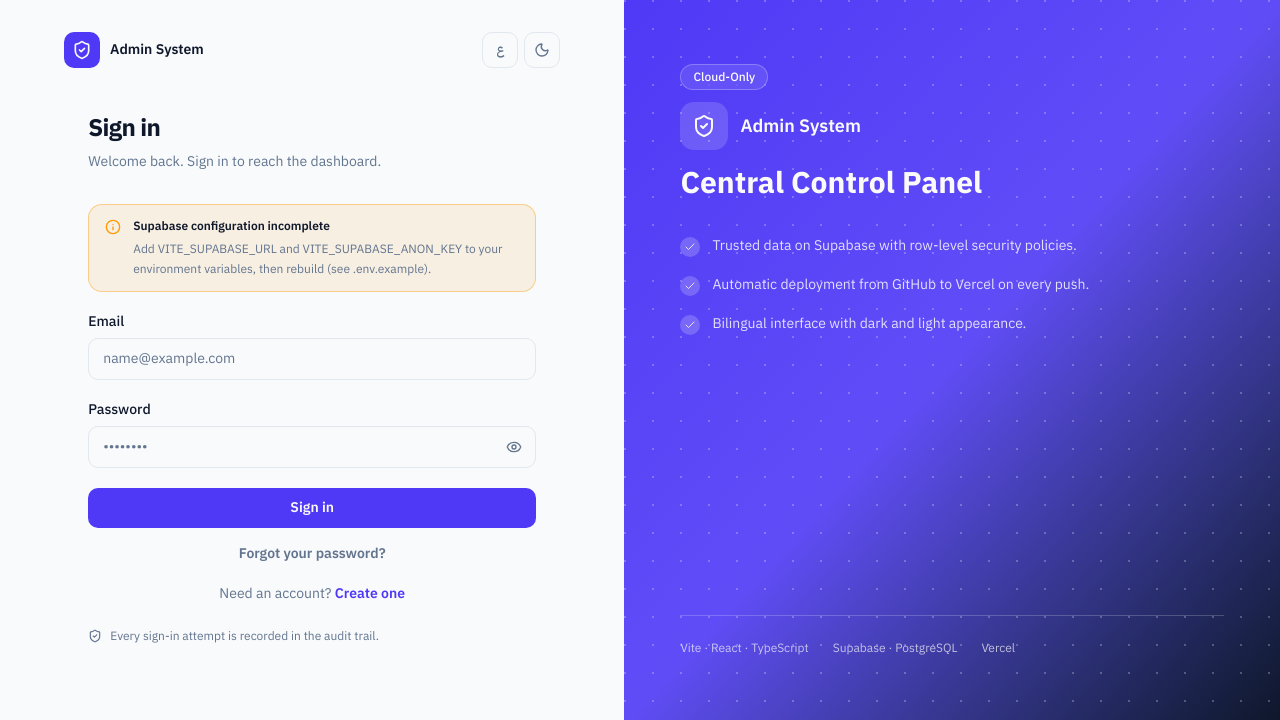
Test: Login (standalone screen) › renders the account-creation form in English as well
Click the button "Create one" at (370, 594), box [335,584,405,604]
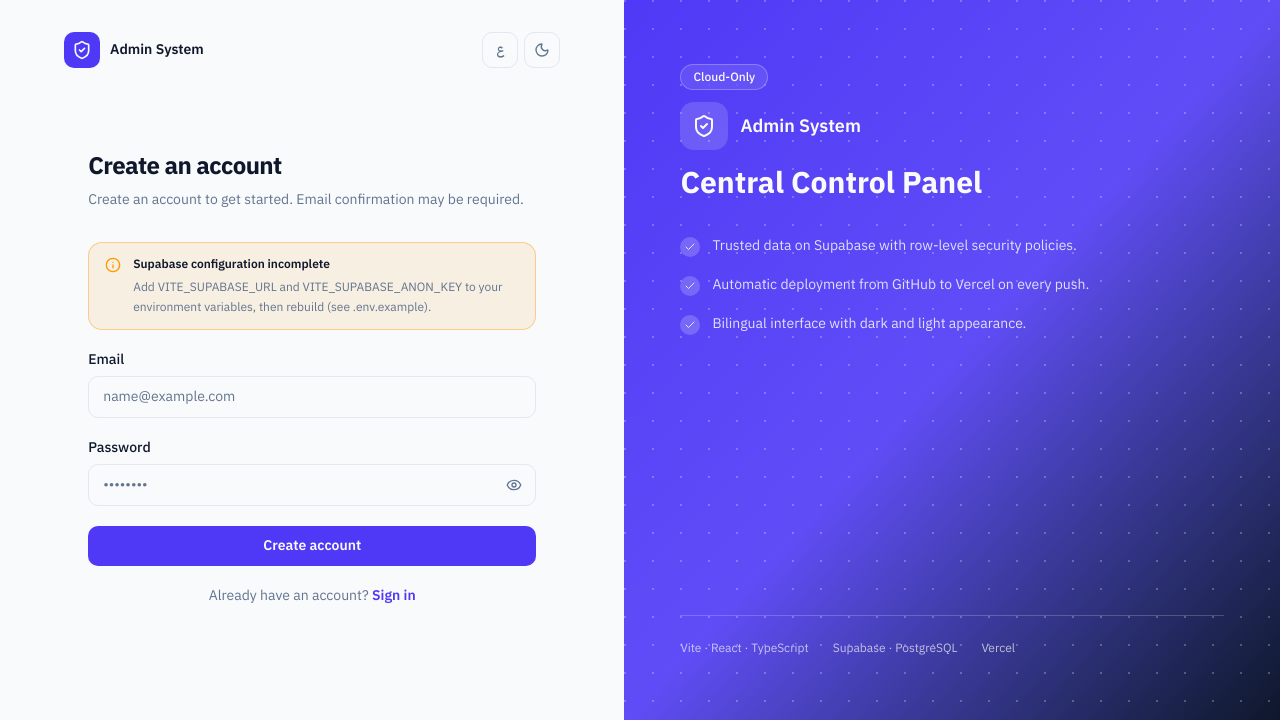
Result: the heading "Create an account" is shown at [88,148,282,184]
Result: the text "Create an account to get started. Email confirmation may be required." is shown at [88,190,536,210]
Result: the button "Create account" is shown at [88,526,536,566]
